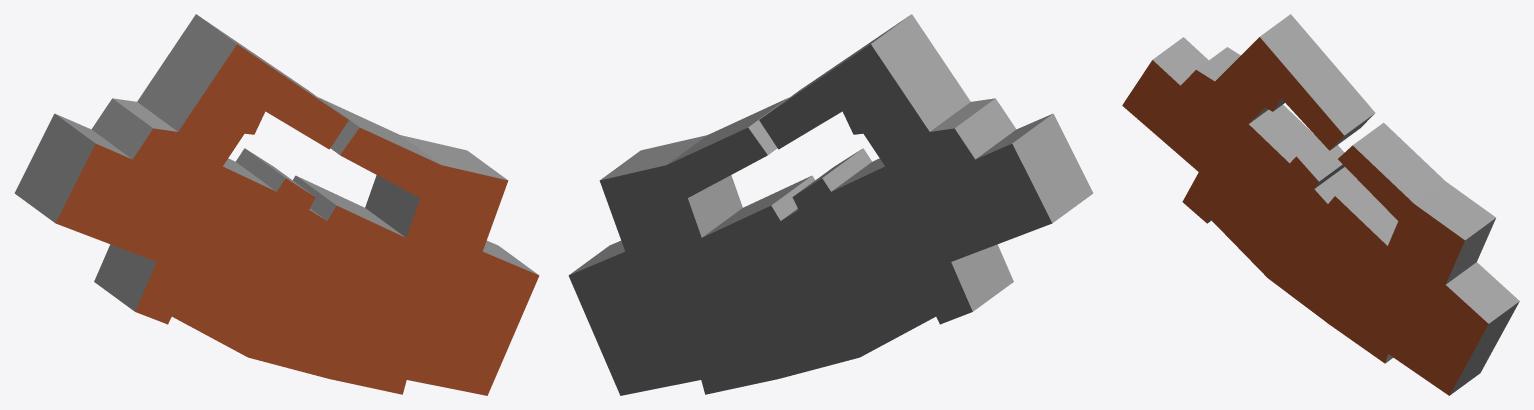
The model's file is construction_5567_assumed_A_Casa_h6m.obj.
3 views of the same model, side by side, from view 1: azimuth 30°, elevation 25°; view 2: azimuth 150°, elevation 25°; view 3: azimuth 330°, elevation 25° (orthographic). The views are drawn at different scales.
Parts seen in each view (by area): view 1: construction_5567_assumed_A_Casa; view 2: construction_5567_assumed_A_Casa; view 3: construction_5567_assumed_A_Casa.
Part boxes in pixels (x1=…): construction_5567_assumed_A_Casa: x1=14, y1=14, x2=539, y2=395; construction_5567_assumed_A_Casa: x1=568, y1=14, x2=1093, y2=395; construction_5567_assumed_A_Casa: x1=1122, y1=14, x2=1519, y2=395.
Bounding box in the file's own units: 40.76 × 33.24 × 6.
